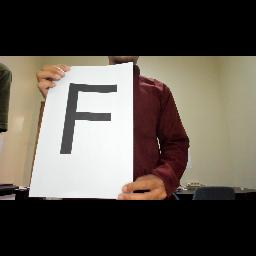f: (60, 82, 122, 162)
